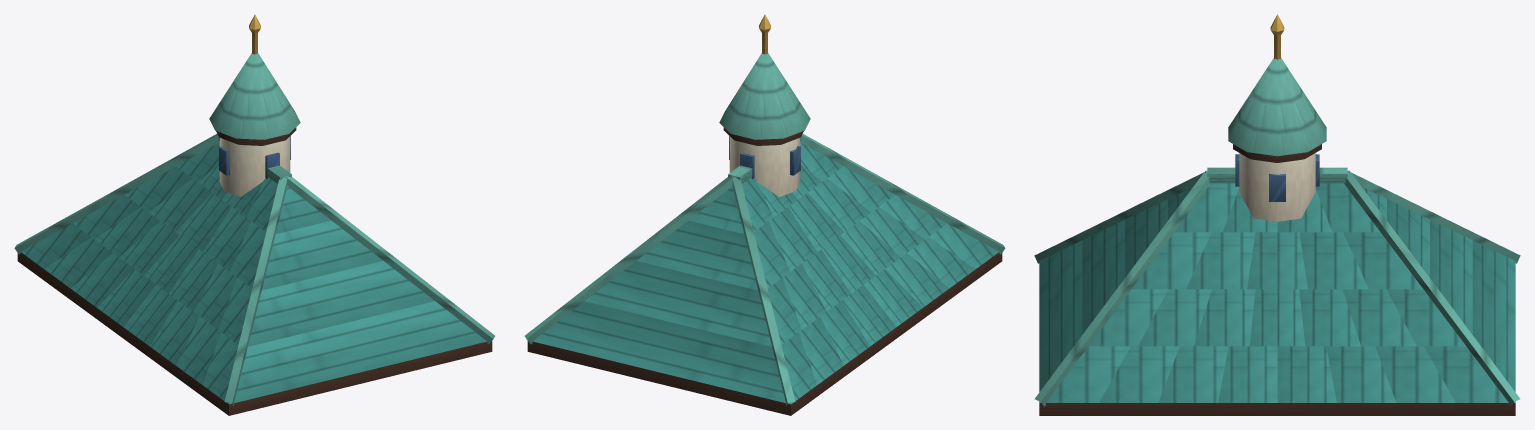
File: bld_roof_b_6x8.glb
3 renders of one model, left to right at view 1: azimuth 30°, elevation 25°; view 2: azimuth 150°, elevation 25°; view 3: azimuth 270°, elevation 25°, orthographic. The views are drawn at different scales.
Visible parts, largest first — view 1: bld_roof_b_6x8; view 2: bld_roof_b_6x8; view 3: bld_roof_b_6x8.
Boxes of the visible parts, left/top/right/bottom form: bld_roof_b_6x8: left=14, top=14, right=495, bottom=415; bld_roof_b_6x8: left=524, top=14, right=1005, bottom=415; bld_roof_b_6x8: left=1034, top=14, right=1520, bottom=415.
Size of the model in its own units: 5.44 by 5.61 by 7.5.
1 material, 1 textured.
